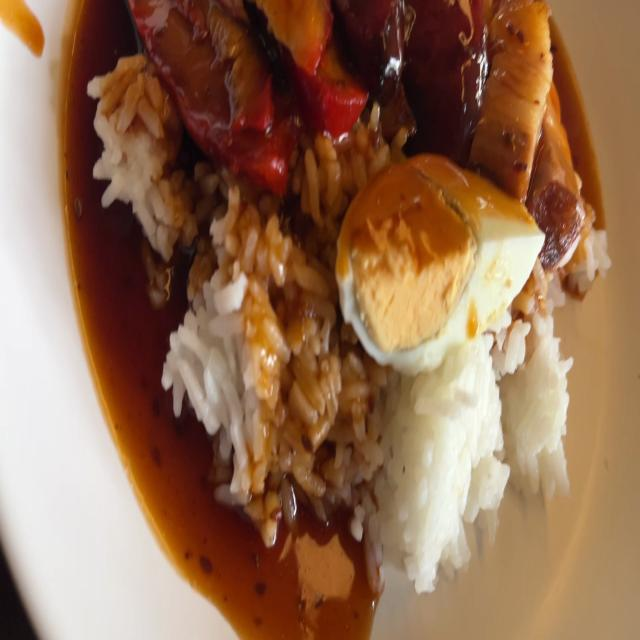01boiled_egg: (336, 162, 540, 363)
01chainese_sausage: (338, 0, 485, 154), (401, 0, 487, 146), (339, 0, 404, 89)
01crispy_pork: (484, 0, 580, 248), (486, 0, 557, 181), (541, 92, 583, 265)
01red_pork: (138, 0, 295, 187), (133, 0, 287, 179), (270, 0, 367, 140), (207, 0, 272, 124), (271, 0, 329, 74)
01red_pork_and_crispy_pork: (93, 0, 606, 639)
01rice: (160, 201, 264, 518), (370, 354, 504, 571), (96, 42, 175, 240), (510, 297, 581, 475)
